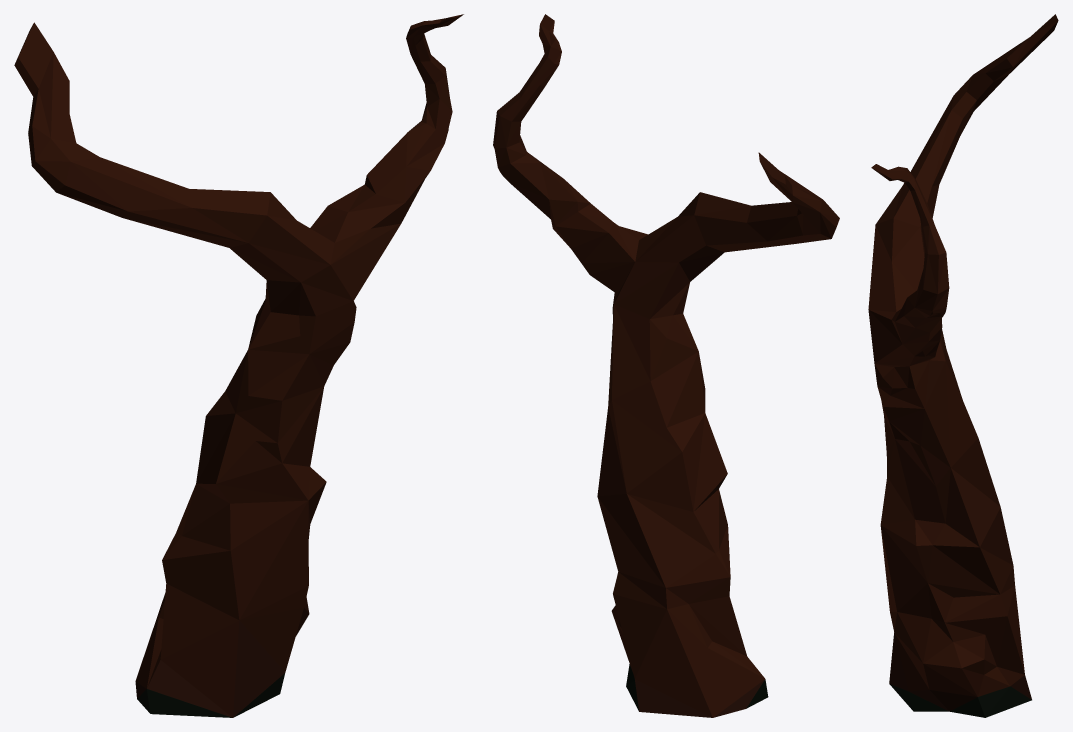
The model's file is tree old b.FBX.
The picture shows the model from 3 angles, left to right: view 1: azimuth 30°, elevation 25°; view 2: azimuth 150°, elevation 25°; view 3: azimuth 270°, elevation 25°; orthographic projection. The views are drawn at different scales.
Visible parts, largest first — view 1: tree old b; view 2: tree old b; view 3: tree old b.
Boxes of the visible parts, x1,y1,x2,y2 form: tree old b: [14, 14, 463, 717]; tree old b: [493, 14, 839, 717]; tree old b: [868, 14, 1058, 717].
Size of the model in its own units: 7.34 by 3.22 by 11.6.
